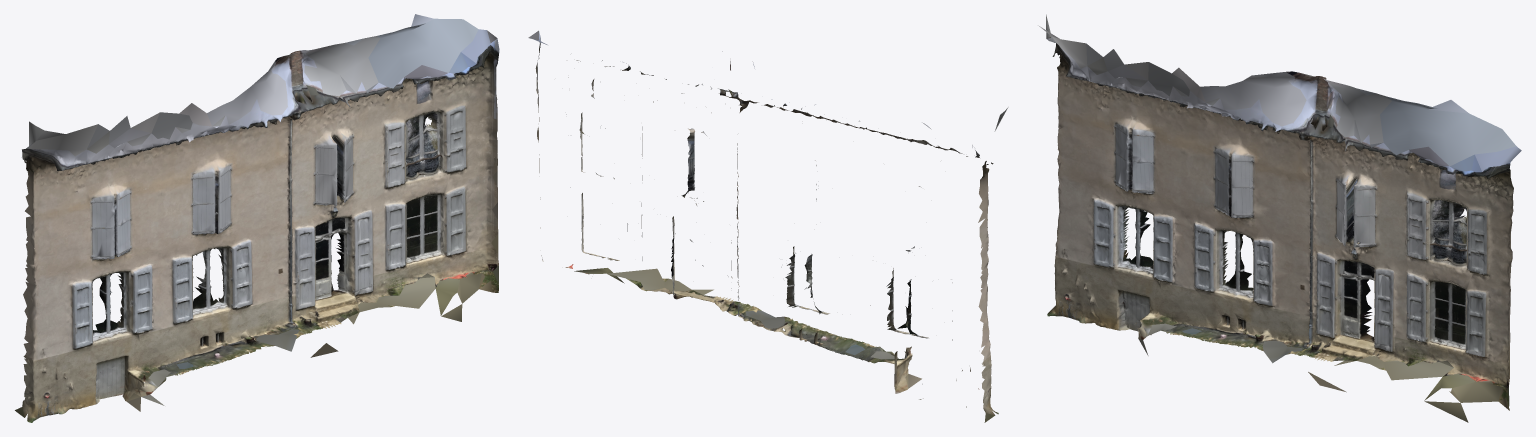
File: facade-entree.glb
3 renders of one model, left to right at view 1: azimuth 30°, elevation 25°; view 2: azimuth 150°, elevation 25°; view 3: azimuth 330°, elevation 25°, orthographic.
Bounding box in the file's own units: 1.03 × 0.6436 × 0.1415.
1 material, 1 textured.
